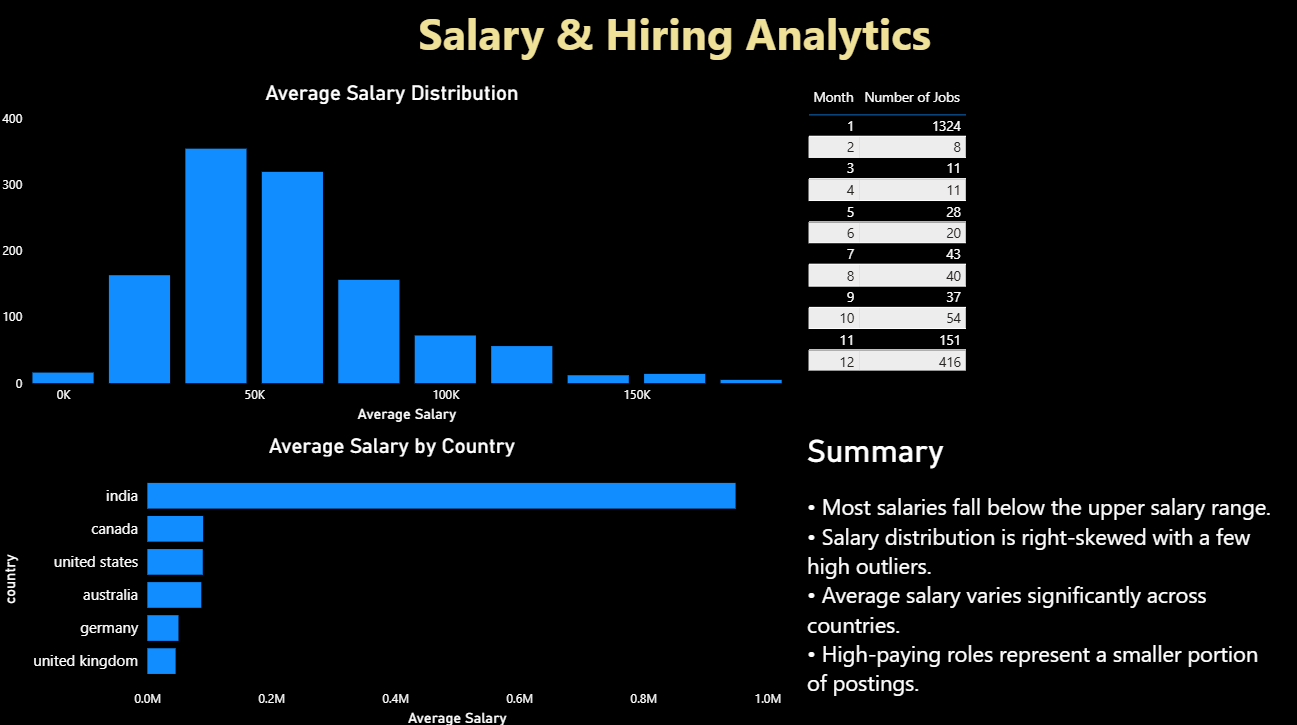

The page's visual inventory and layout, read from the dashboard file:
{"tool":"powerbi","page":{"name":"Salary & Hiring Analytics","canvas":[1280,720],"ordinal":2},"visuals":[{"type":"textbox","box":[408.3,0,597.3,80.8],"z":0},{"type":"clusteredColumnChart","title":"Average Salary Distribution","fields":{"Y":["CountNonNull(job_market jobs_clean.job_id)"],"Category":["job_market jobs_clean.avg_salary (bins)"]},"box":[0,81,775.5,341.1],"z":1000},{"type":"clusteredBarChart","title":"Average Salary by Country","fields":{"Y":["Avg(job_market jobs_clean.avg_salary)"],"Category":["job_market jobs_clean.country"]},"box":[0,427,775.5,293.3],"z":2000},{"type":"tableEx","fields":{"Values":["job_market monthly_trends.month","Sum(job_market monthly_trends.job_count)"]},"box":[790.2,81,171.8,298.2],"z":2001},{"type":"textbox","title":"Summary","box":[790.2,427,477.3,293.3],"z":2002}]}

Visuals, with their boxes in screenshot pixels (x1, y1, x2, y2), scaled from the page's 1280x720 canvas onto the 1297x725 screenshot:
textbox: select_region(414, 0, 1019, 81)
"Average Salary Distribution" clusteredColumnChart: select_region(0, 82, 786, 425)
"Average Salary by Country" clusteredBarChart: select_region(0, 430, 786, 724)
tableEx - job_market monthly_trends.month x Sum(job_market monthly_trends.job_count): select_region(801, 82, 975, 382)
"Summary" textbox: select_region(801, 430, 1284, 724)
